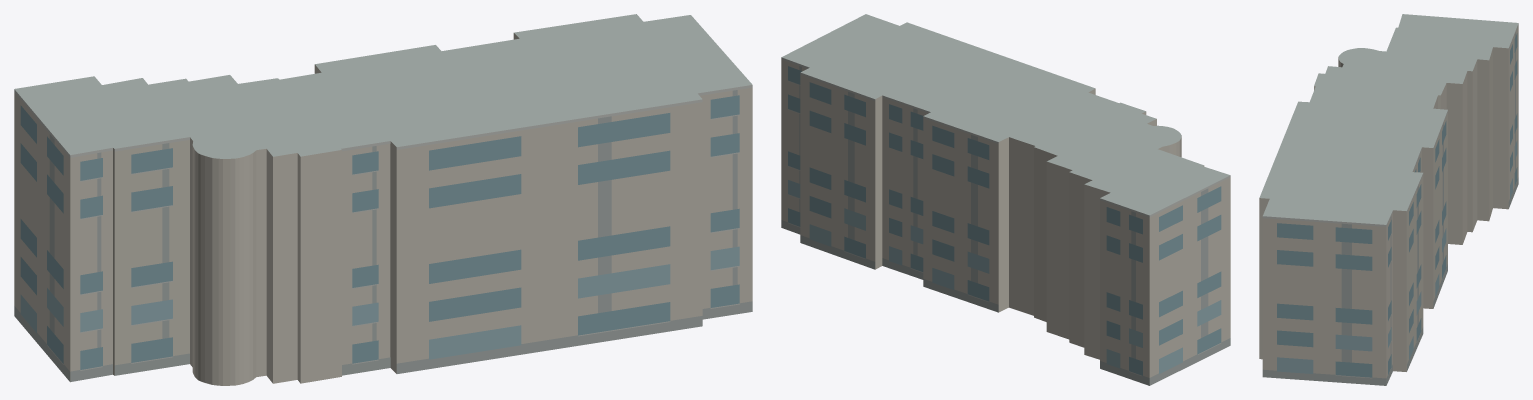
The model's file is survey-upis-32833339.glb.
3 renders of one model, left to right at view 1: azimuth 30°, elevation 25°; view 2: azimuth 150°, elevation 25°; view 3: azimuth 270°, elevation 25°, orthographic. The views are drawn at different scales.
Parts seen in each view (by area): view 1: survey-upis-32833339.tmp; view 2: survey-upis-32833339.tmp; view 3: survey-upis-32833339.tmp.
Boxes of the visible parts, <box> form: survey-upis-32833339.tmp: <box>14,14,752,385</box>; survey-upis-32833339.tmp: <box>781,14,1230,385</box>; survey-upis-32833339.tmp: <box>1259,14,1518,385</box>.
Size of the model in its own units: 57.61 by 20.5 by 29.93.
